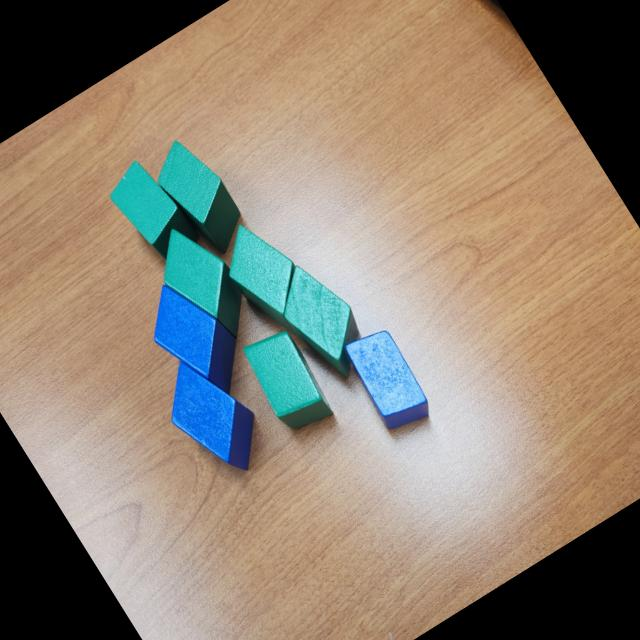blue: (148, 342, 278, 489), (132, 267, 259, 413), (338, 319, 438, 436)
green: (142, 212, 264, 354), (263, 250, 383, 391), (208, 210, 328, 349), (142, 129, 255, 263), (235, 320, 338, 440), (98, 151, 200, 268)
